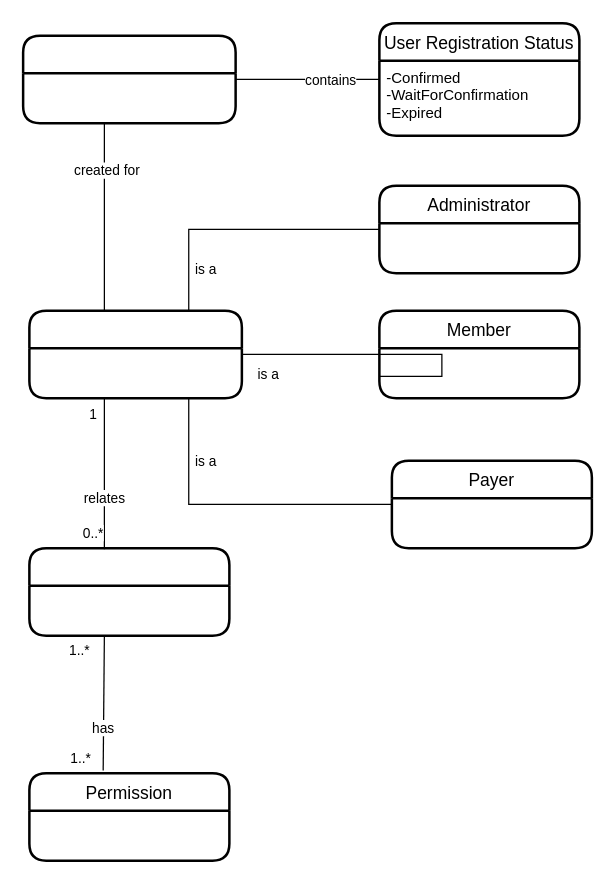
Some shapes in this 614 by 883 pixel diagram are drawn without their labels. The centre of each missing label's shape, as x and y in pixels:
"Role" goes at (129,591).
"User" goes at (135,354).
"User Registration" goes at (128,79).
